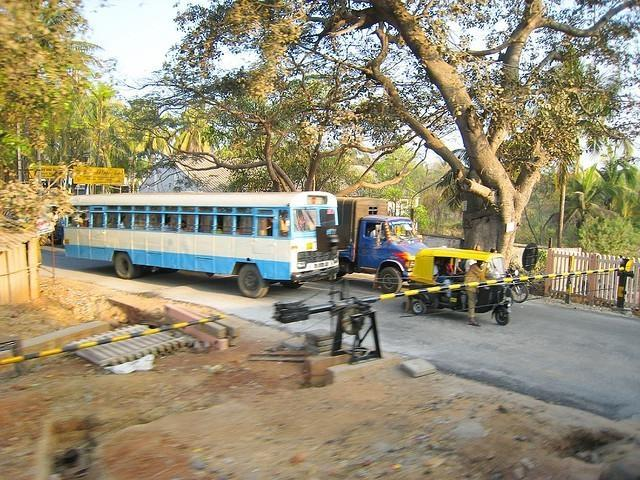bus: (62, 192, 339, 300)
motorcycle: (505, 266, 529, 303)
truck: (336, 197, 430, 294)
